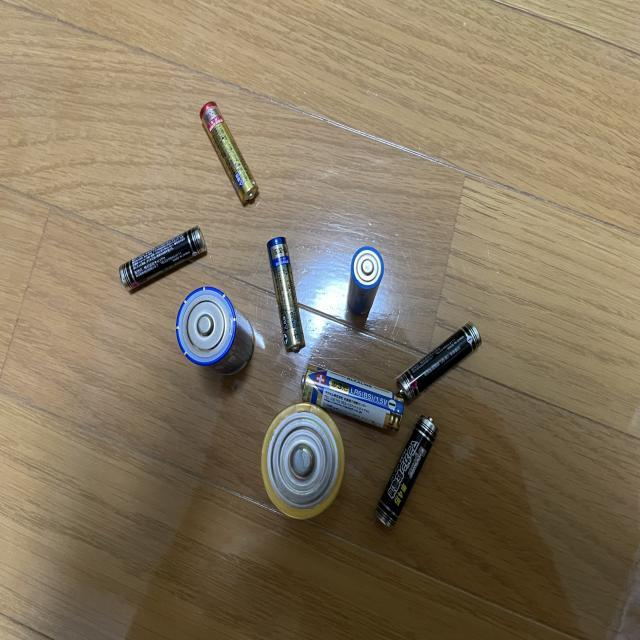hazardous waste: (252, 401, 356, 536), (300, 348, 413, 442), (172, 278, 262, 385), (370, 408, 442, 534), (394, 314, 486, 405), (110, 220, 213, 297), (194, 98, 261, 208), (262, 226, 310, 356), (334, 232, 390, 328)
